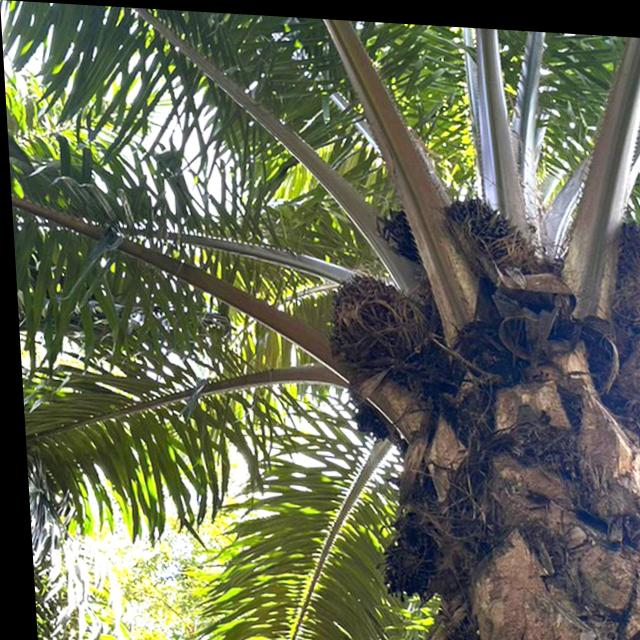ripe: (325, 264, 425, 361), (453, 188, 529, 265)
